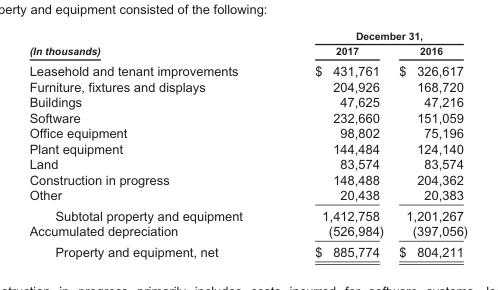table: (28, 29, 467, 258)
table column: (28, 29, 278, 258), (278, 29, 390, 258), (390, 29, 467, 258)
table column header: (28, 29, 467, 59)
table row: (28, 59, 467, 78), (28, 204, 467, 223), (28, 186, 467, 204), (28, 223, 467, 241), (28, 42, 467, 59), (28, 241, 467, 258), (28, 93, 467, 109), (28, 124, 467, 140), (28, 155, 467, 171), (28, 78, 467, 93), (28, 109, 467, 124), (28, 140, 467, 155), (28, 171, 467, 186), (28, 29, 467, 42)
table spanning cell: (28, 29, 278, 59), (278, 29, 467, 42)
